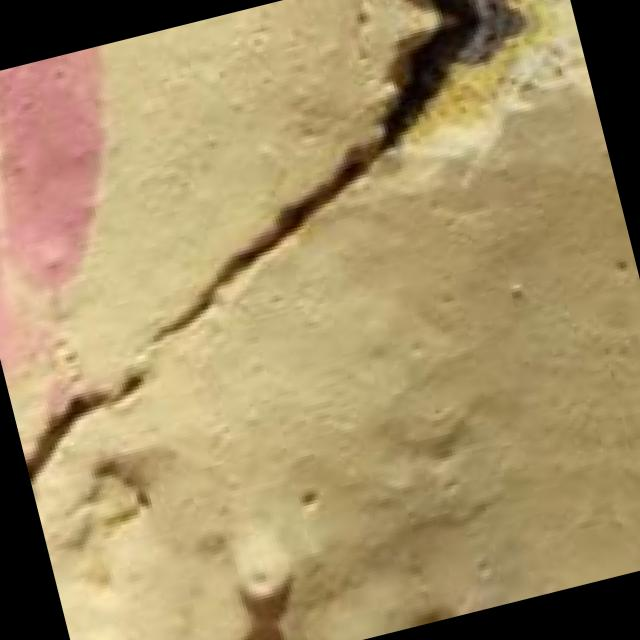crack: (0, 0, 622, 502)
